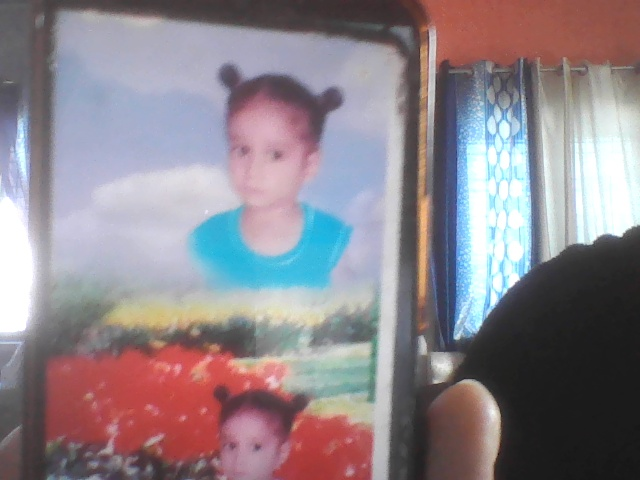fake: (220, 70, 329, 224)
